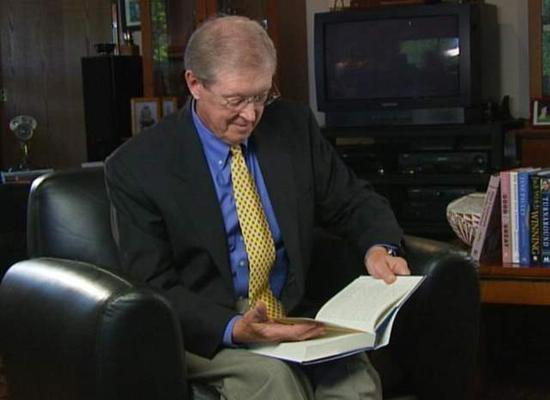person: (101, 16, 414, 400)
